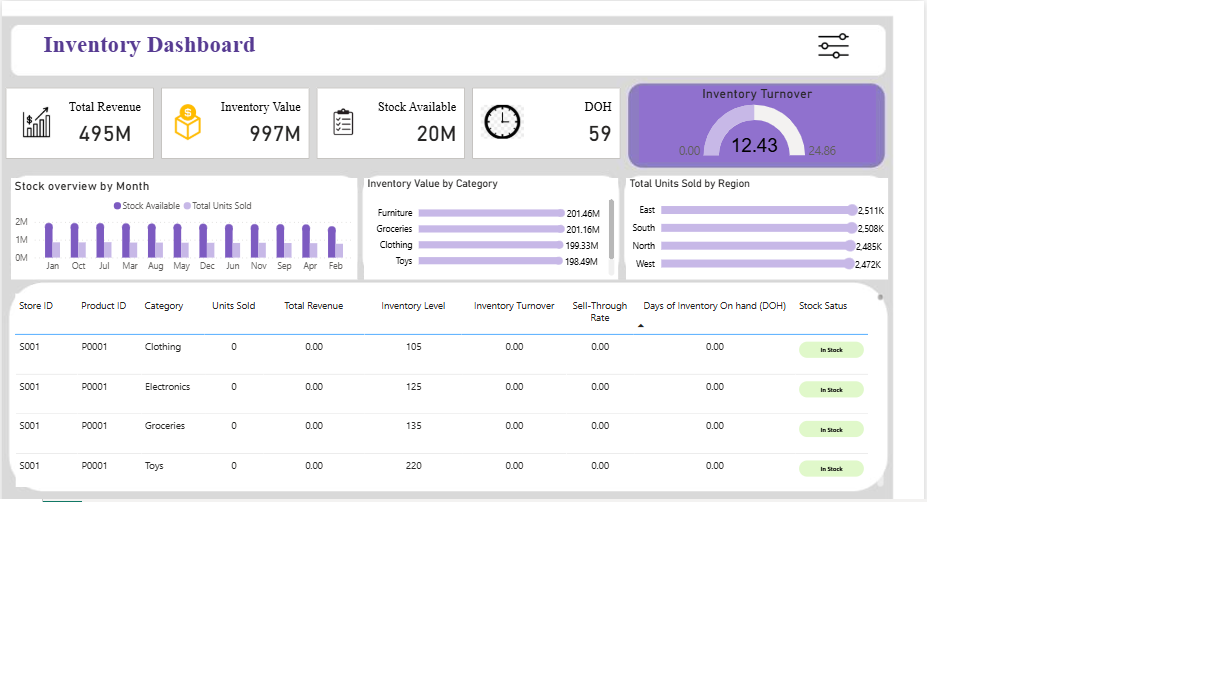

What the dashboard file says about the page in this screenshot:
{"tool":"powerbi","page":{"name":"Page 1","canvas":[1280,720],"ordinal":0},"visuals":[{"type":"shape","box":[13,33.9,1215.8,65.8],"z":0,"group":"g2"},{"type":"slicer","fields":{"Values":["Date.Year"]},"box":[35.4,33.9,96.1,65.8],"z":0,"group":"g1"},{"type":"image","title":"Refresh","box":[689,26.6,57.4,74.1],"z":1000,"group":"g2"},{"type":"slicer","fields":{"Values":["Inventory.Region"]},"box":[294.6,33.9,97.4,63.2],"z":1000,"group":"g1"},{"type":"cardVisual","fields":{"Data":["Key Measures.Total Revenue","Key Measures.Inventory Value","Key Measures.Stock Available","Key Measures.Daya of Inventory In hand"]},"box":[0,114.8,866,109.1],"z":1000},{"type":"group","id":"g1","title":"Slicers","box":[35.4,33.9,1164.5,67.1],"z":2000,"group":"g2"},{"type":"slicer","fields":{"Values":["Date.Month Name"]},"box":[166.3,33.9,93.4,63.2],"z":2000,"group":"g1"},{"type":"gauge","fields":{"Y":["Key Measures.Inventory Turnover"]},"box":[884.4,117.6,328.8,106.3],"z":2000},{"type":"image","box":[453.1,29.6,64.8,70.4],"z":3000,"group":"g2"},{"type":"slicer","fields":{"Values":["Inventory.Store ID"]},"box":[855.1,35.2,97.4,65.8],"z":3000,"group":"g1"},{"type":"clusteredColumnChart","title":"Stock overview by Month","fields":{"Y":["Key Measures.Stock Available","Key Measures.Total Unit SOld"],"Category":["Date.Month Name"]},"box":[12.2,245.9,481.1,140.5],"z":3000},{"type":"actionButton","title":"Refresh","box":[677.8,31.5,79.6,72.2],"z":3500,"group":"g2"},{"type":"actionButton","title":"Cancel","box":[446.3,35.2,90.7,72.2],"z":4000,"group":"g2"},{"type":"slicer","fields":{"Values":["Inventory.Category"]},"box":[977.5,35.2,98.7,65.8],"z":4000,"group":"g1"},{"type":"clusteredBarChart","fields":{"Y":["Key Measures.Inventory Value"],"Category":["Inventory.Category"]},"box":[502.7,245.9,352.7,140.5],"z":4000},{"type":"actionButton","title":"Filter","box":[1105.4,40.5,95.9,47.3],"z":4500,"group":"g2"},{"type":"slicer","fields":{"Values":["Inventory.Product ID"]},"box":[1101.2,35.2,98.7,65.8],"z":5000,"group":"g1"},{"type":"clusteredBarChart","fields":{"Y":["Key Measures.Total Units Sold"],"Category":["Inventory.Region"]},"box":[866.2,245.9,363.5,140.5],"z":5000},{"type":"tableEx","fields":{"Values":["Inventory.Store ID","Inventory.Product ID","Inventory.Category","Inventory.Units Sold","Key Measures.Total Revenue","Inventory.Inventory Level","Key Measures.Inventory Turnover","Date.Sell-Through Rate","Key Measures.DOH","Key Measures.Stock Satus"]},"box":[13,401.9,1216.7,277.8],"z":6000},{"type":"group","id":"g2","title":"Filter Panel","box":[13,26.6,1215.8,80.8],"z":7000}]}

Visuals, with their boxes in screenshot pixels (x1, y1, x2, y2), scaled from the page's 1280x720 canvas onto the 1220x692 screenshot:
shape: <bbox>12, 33, 1171, 96</bbox>
slicer - Date.Year: <bbox>34, 33, 125, 96</bbox>
"Refresh" image: <bbox>657, 26, 711, 97</bbox>
slicer - Inventory.Region: <bbox>281, 33, 374, 93</bbox>
cardVisual - Key Measures.Total Revenue x Key Measures.Inventory Value: <bbox>0, 110, 825, 215</bbox>
"Slicers" group: <bbox>34, 33, 1144, 97</bbox>
slicer - Date.Month Name: <bbox>159, 33, 248, 93</bbox>
gauge - Key Measures.Inventory Turnover: <bbox>843, 113, 1156, 215</bbox>
image: <bbox>432, 28, 494, 96</bbox>
slicer - Inventory.Store ID: <bbox>815, 34, 908, 97</bbox>
"Stock overview by Month" clusteredColumnChart: <bbox>12, 236, 470, 371</bbox>
"Refresh" actionButton: <bbox>646, 30, 722, 100</bbox>
"Cancel" actionButton: <bbox>425, 34, 512, 103</bbox>
slicer - Inventory.Category: <bbox>932, 34, 1026, 97</bbox>
clusteredBarChart - Key Measures.Inventory Value x Inventory.Category: <bbox>479, 236, 815, 371</bbox>
"Filter" actionButton: <bbox>1054, 39, 1145, 84</bbox>
slicer - Inventory.Product ID: <bbox>1050, 34, 1144, 97</bbox>
clusteredBarChart - Key Measures.Total Units Sold x Inventory.Region: <bbox>826, 236, 1172, 371</bbox>
tableEx - Inventory.Store ID x Inventory.Product ID: <bbox>12, 386, 1172, 653</bbox>
"Filter Panel" group: <bbox>12, 26, 1171, 103</bbox>
